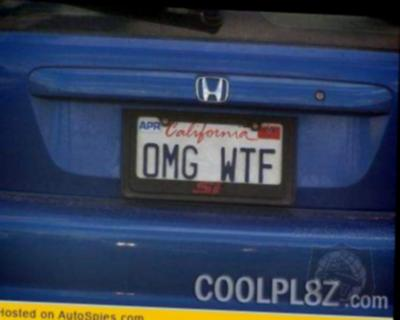License_Plate: (120, 103, 299, 213)
